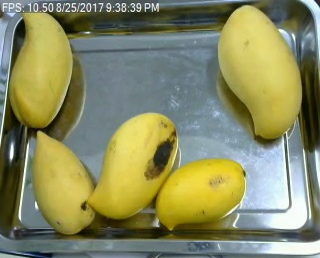Mango: (214, 4, 304, 141), (84, 110, 179, 221), (155, 149, 246, 239), (10, 6, 73, 128), (27, 128, 97, 236)
